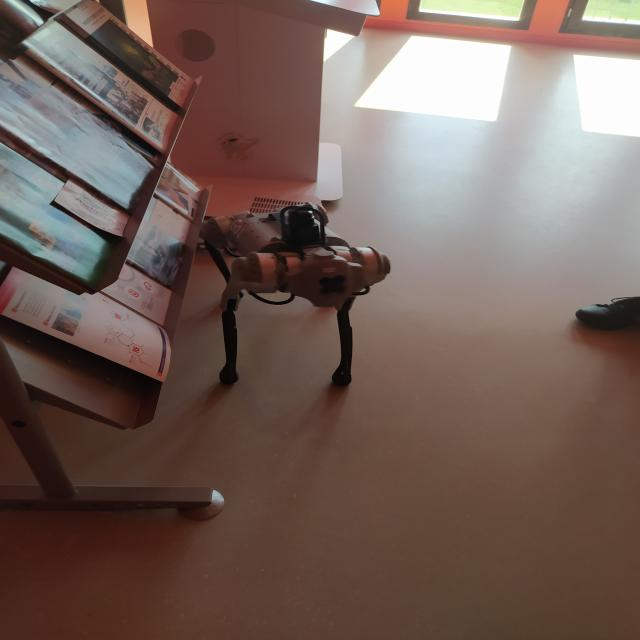unitree-go1-robot: (186, 187, 407, 408)
